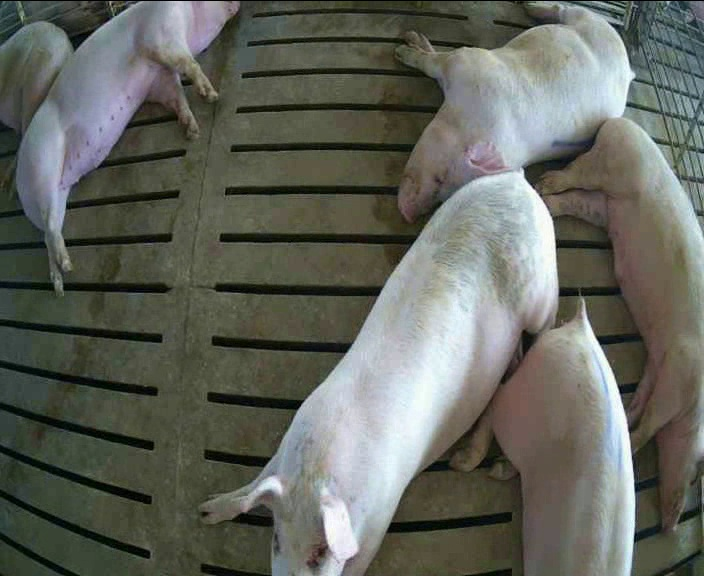pig: (201, 171, 557, 573), (537, 118, 703, 530), (16, 2, 237, 294), (395, 3, 633, 220), (448, 297, 634, 574)
